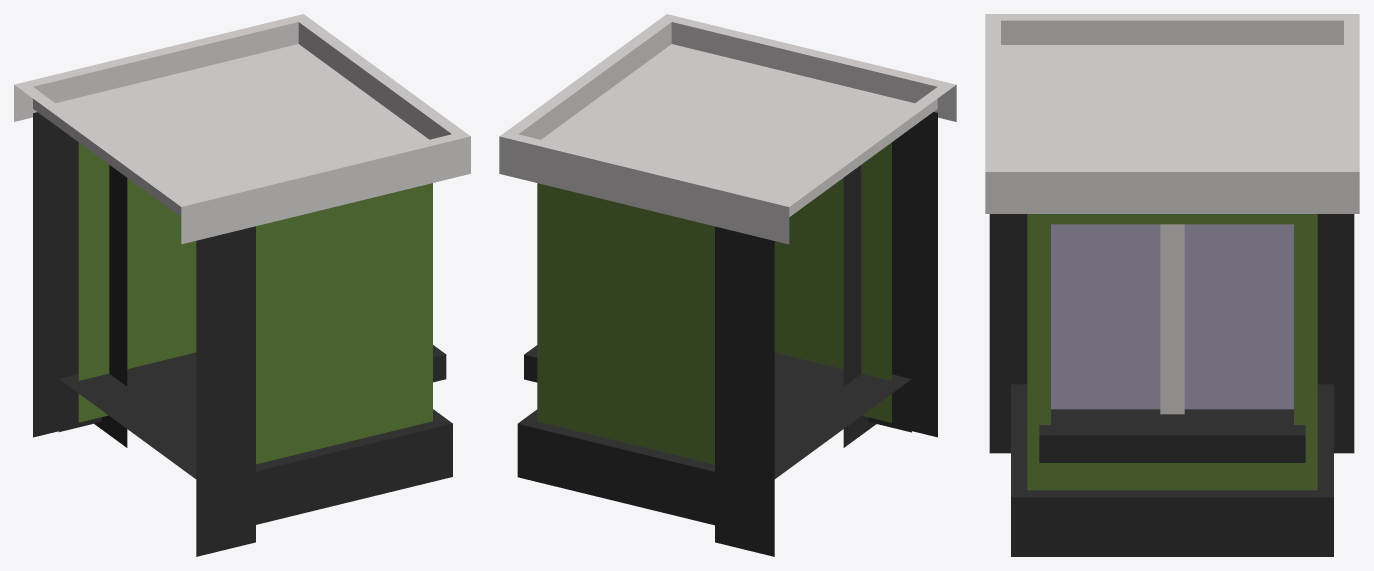
The model's file is House_19.fbx.
The picture shows the model from 3 angles, left to right: view 1: azimuth 30°, elevation 25°; view 2: azimuth 150°, elevation 25°; view 3: azimuth 270°, elevation 25°; orthographic projection. The views are drawn at different scales.
Parts seen in each view (by area): view 1: Cube, Cube.005, Cube.004, Cube.002; view 2: Cube, Cube.005, Cube.004, Cube.002; view 3: Cube.005, Cube, Cube.002, Cube.004, Cube.001, Plane.
Boxes of the visible parts, <box> form: Cube: <box>78,142,432,464</box>; Cube.005: <box>14,14,470,244</box>; Cube.004: <box>33,112,255,556</box>; Cube.002: <box>58,352,452,524</box>; Cube: <box>537,142,891,464</box>; Cube.005: <box>499,14,956,244</box>; Cube.004: <box>715,112,937,556</box>; Cube.002: <box>517,353,911,525</box>; Cube.005: <box>985,14,1359,213</box>; Cube: <box>1027,214,1317,490</box>; Cube.002: <box>1011,384,1333,556</box>; Cube.004: <box>989,214,1354,453</box>; Cube.001: <box>1039,409,1305,462</box>; Plane: <box>1160,224,1184,414</box>.
Size of the model in its own units: 258 by 302 by 258.
